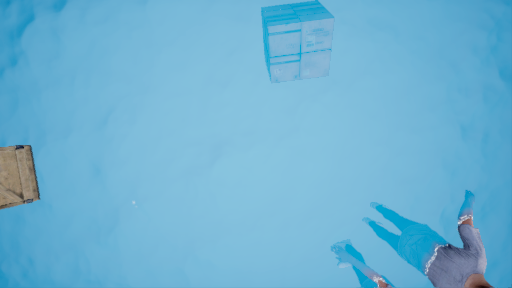person: (366, 185, 498, 288)
